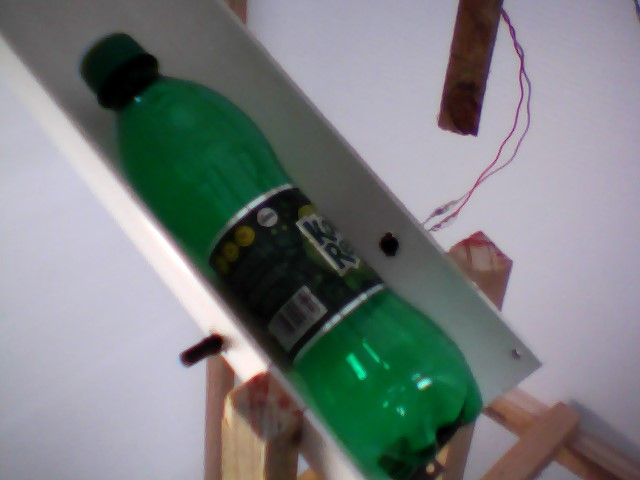plastico: (80, 18, 488, 480)
